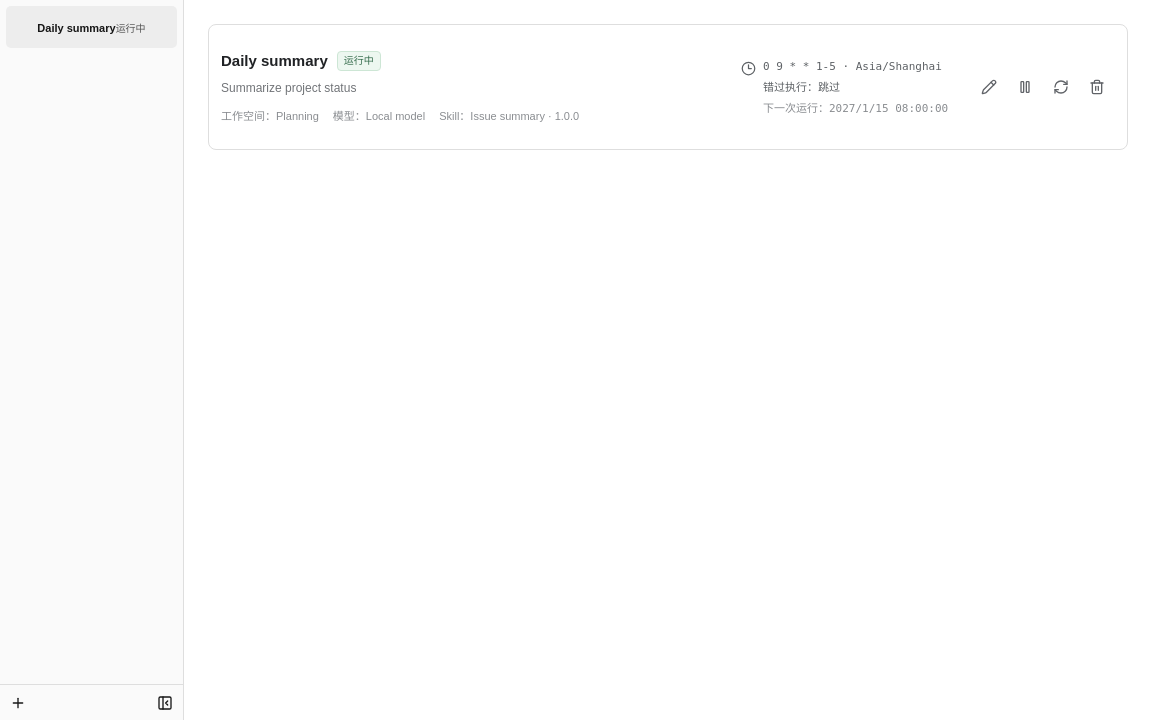
it: SchedulePage › toasts a safe delete failure and keeps the schedule visible
The width and height of the screenshot is (1152, 720).
Check: the heading "Daily summary" is shown, box [221,52,328,69]
Click the button named "删除 Daily summary" at (1097, 87), box [1083,71,1111,103]
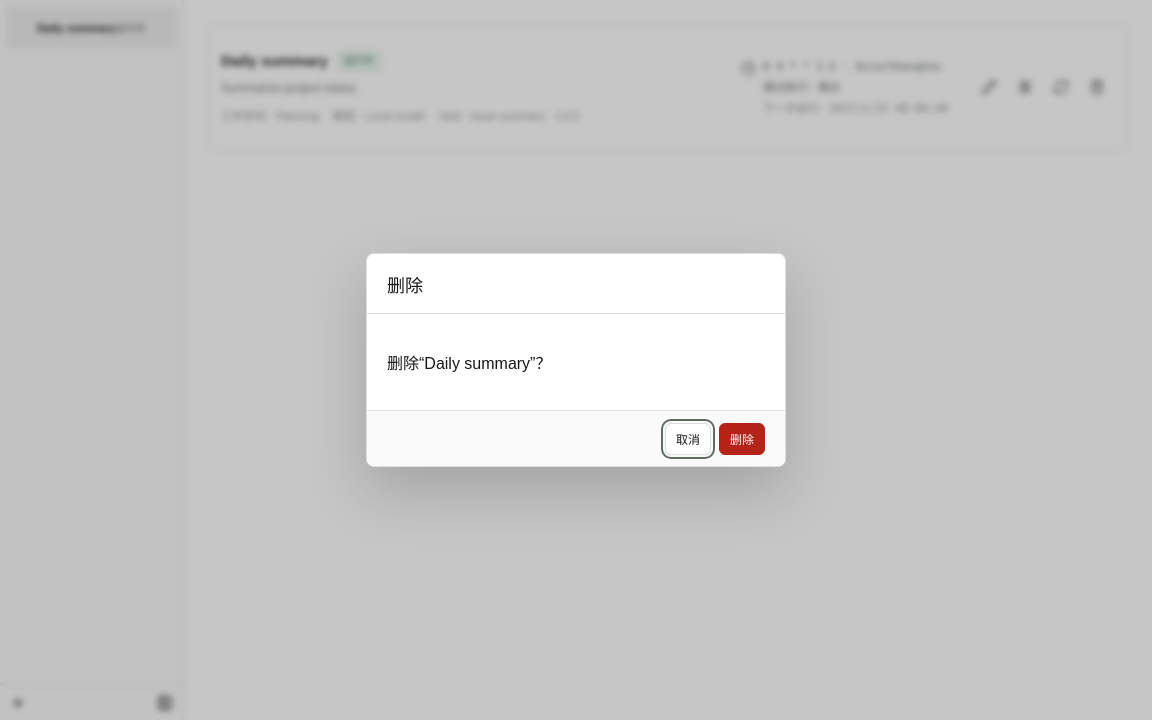
Click the button "删除" at (742, 438), box [719,422,765,454]
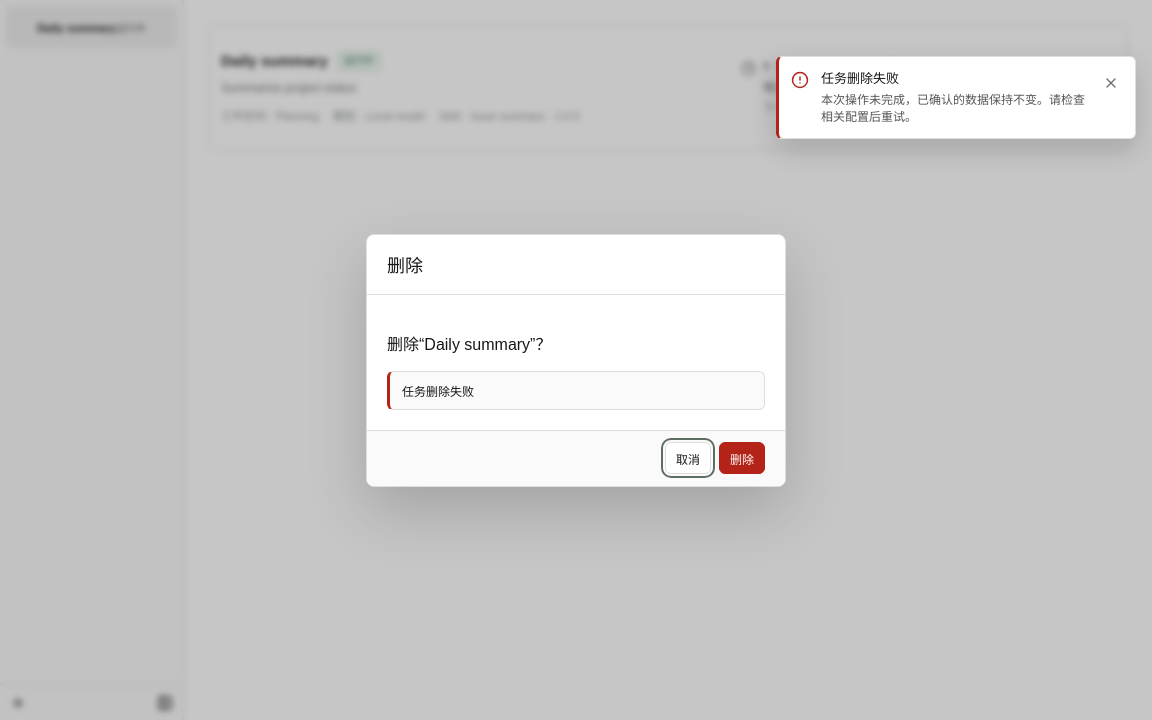
Check: the message "任务删除失败 本次操作未完成，已确认的数据保持不变。请检查相关配置后重试。" does not show "/private/schedule-delete.log", box [776,56,1136,139]
Check: the message "任务删除失败 本次操作未完成，已确认的数据保持不变。请检查相关配置后重试。" is shown, box [776,56,1136,139]
